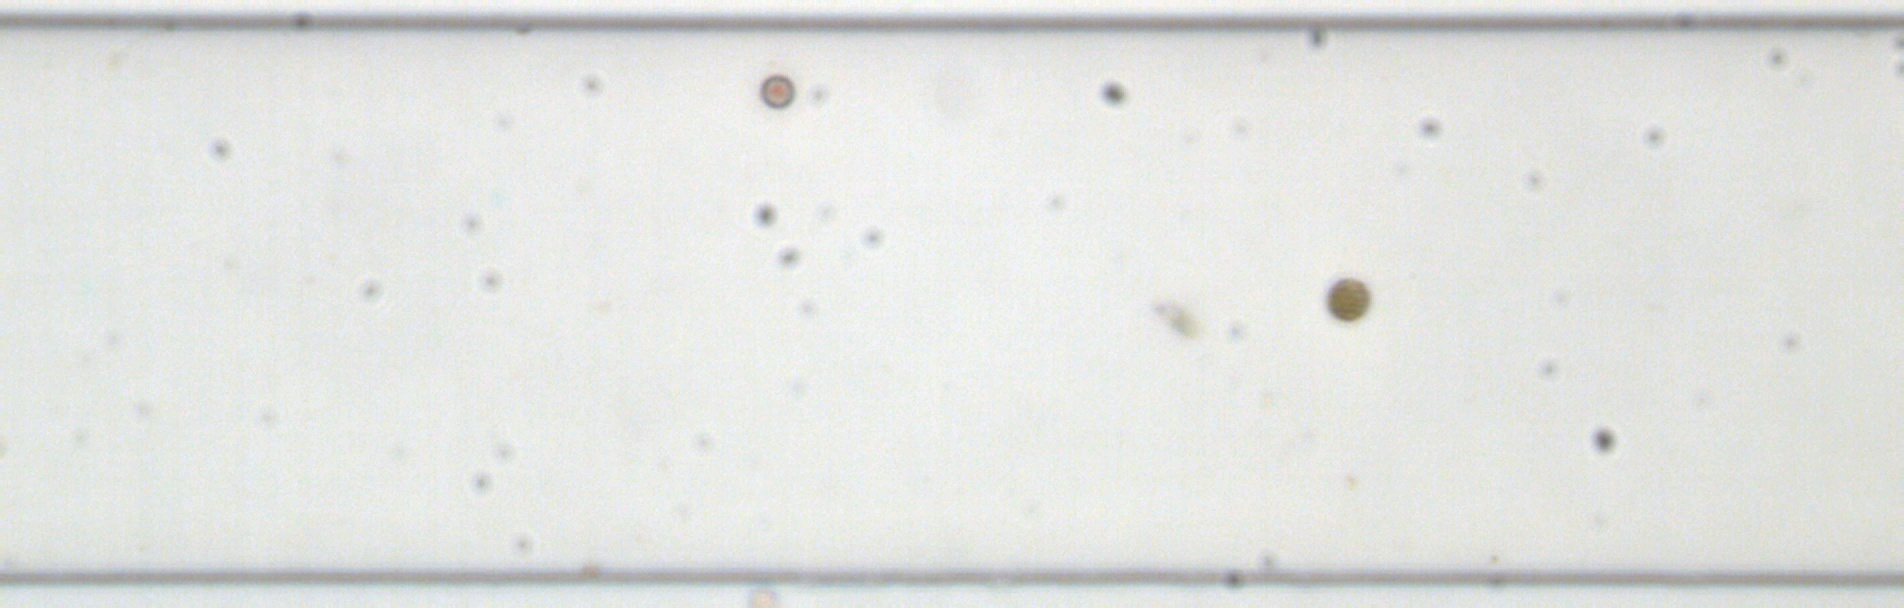Dunaliella salina: (1151, 296, 1201, 339)
Effrenium: (1324, 278, 1371, 322)
Porphyridium: (756, 72, 797, 110)
